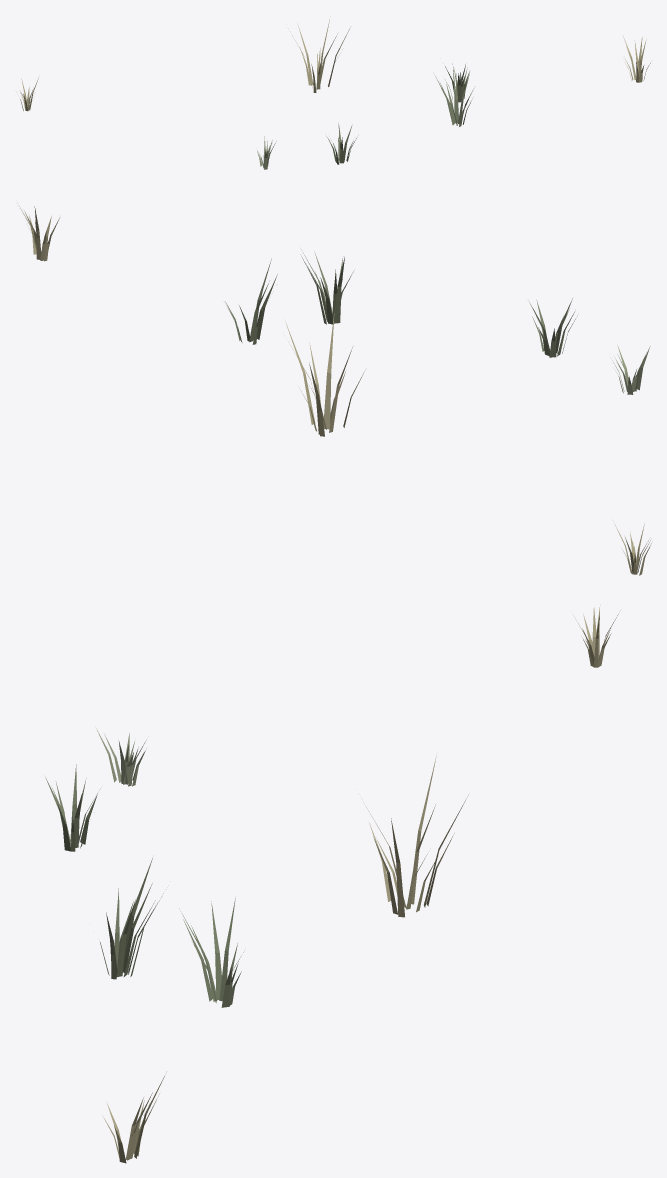
Rendered from AE_Grass_4_1.fbx.
3 views of the same model, one above another, from view 1: azimuth 30°, elevation 25°; view 2: azimuth 150°, elevation 25°; view 3: azimuth 270°, elevation 25° (orthographic). The views are drawn at different scales.
Visible parts, largest first — view 1: AE_Grass_4_1_LOD0; view 2: AE_Grass_4_1_LOD0; view 3: AE_Grass_4_1_LOD0.
Boxes of the visible parts, x1=… form: AE_Grass_4_1_LOD0: x1=20, y1=19, x2=650, y2=169; AE_Grass_4_1_LOD0: x1=17, y1=202, x2=651, y2=575; AE_Grass_4_1_LOD0: x1=45, y1=605, x2=618, y2=1163.
Size of what is drawn, in the model's own units: 694 by 88.36 by 335.
